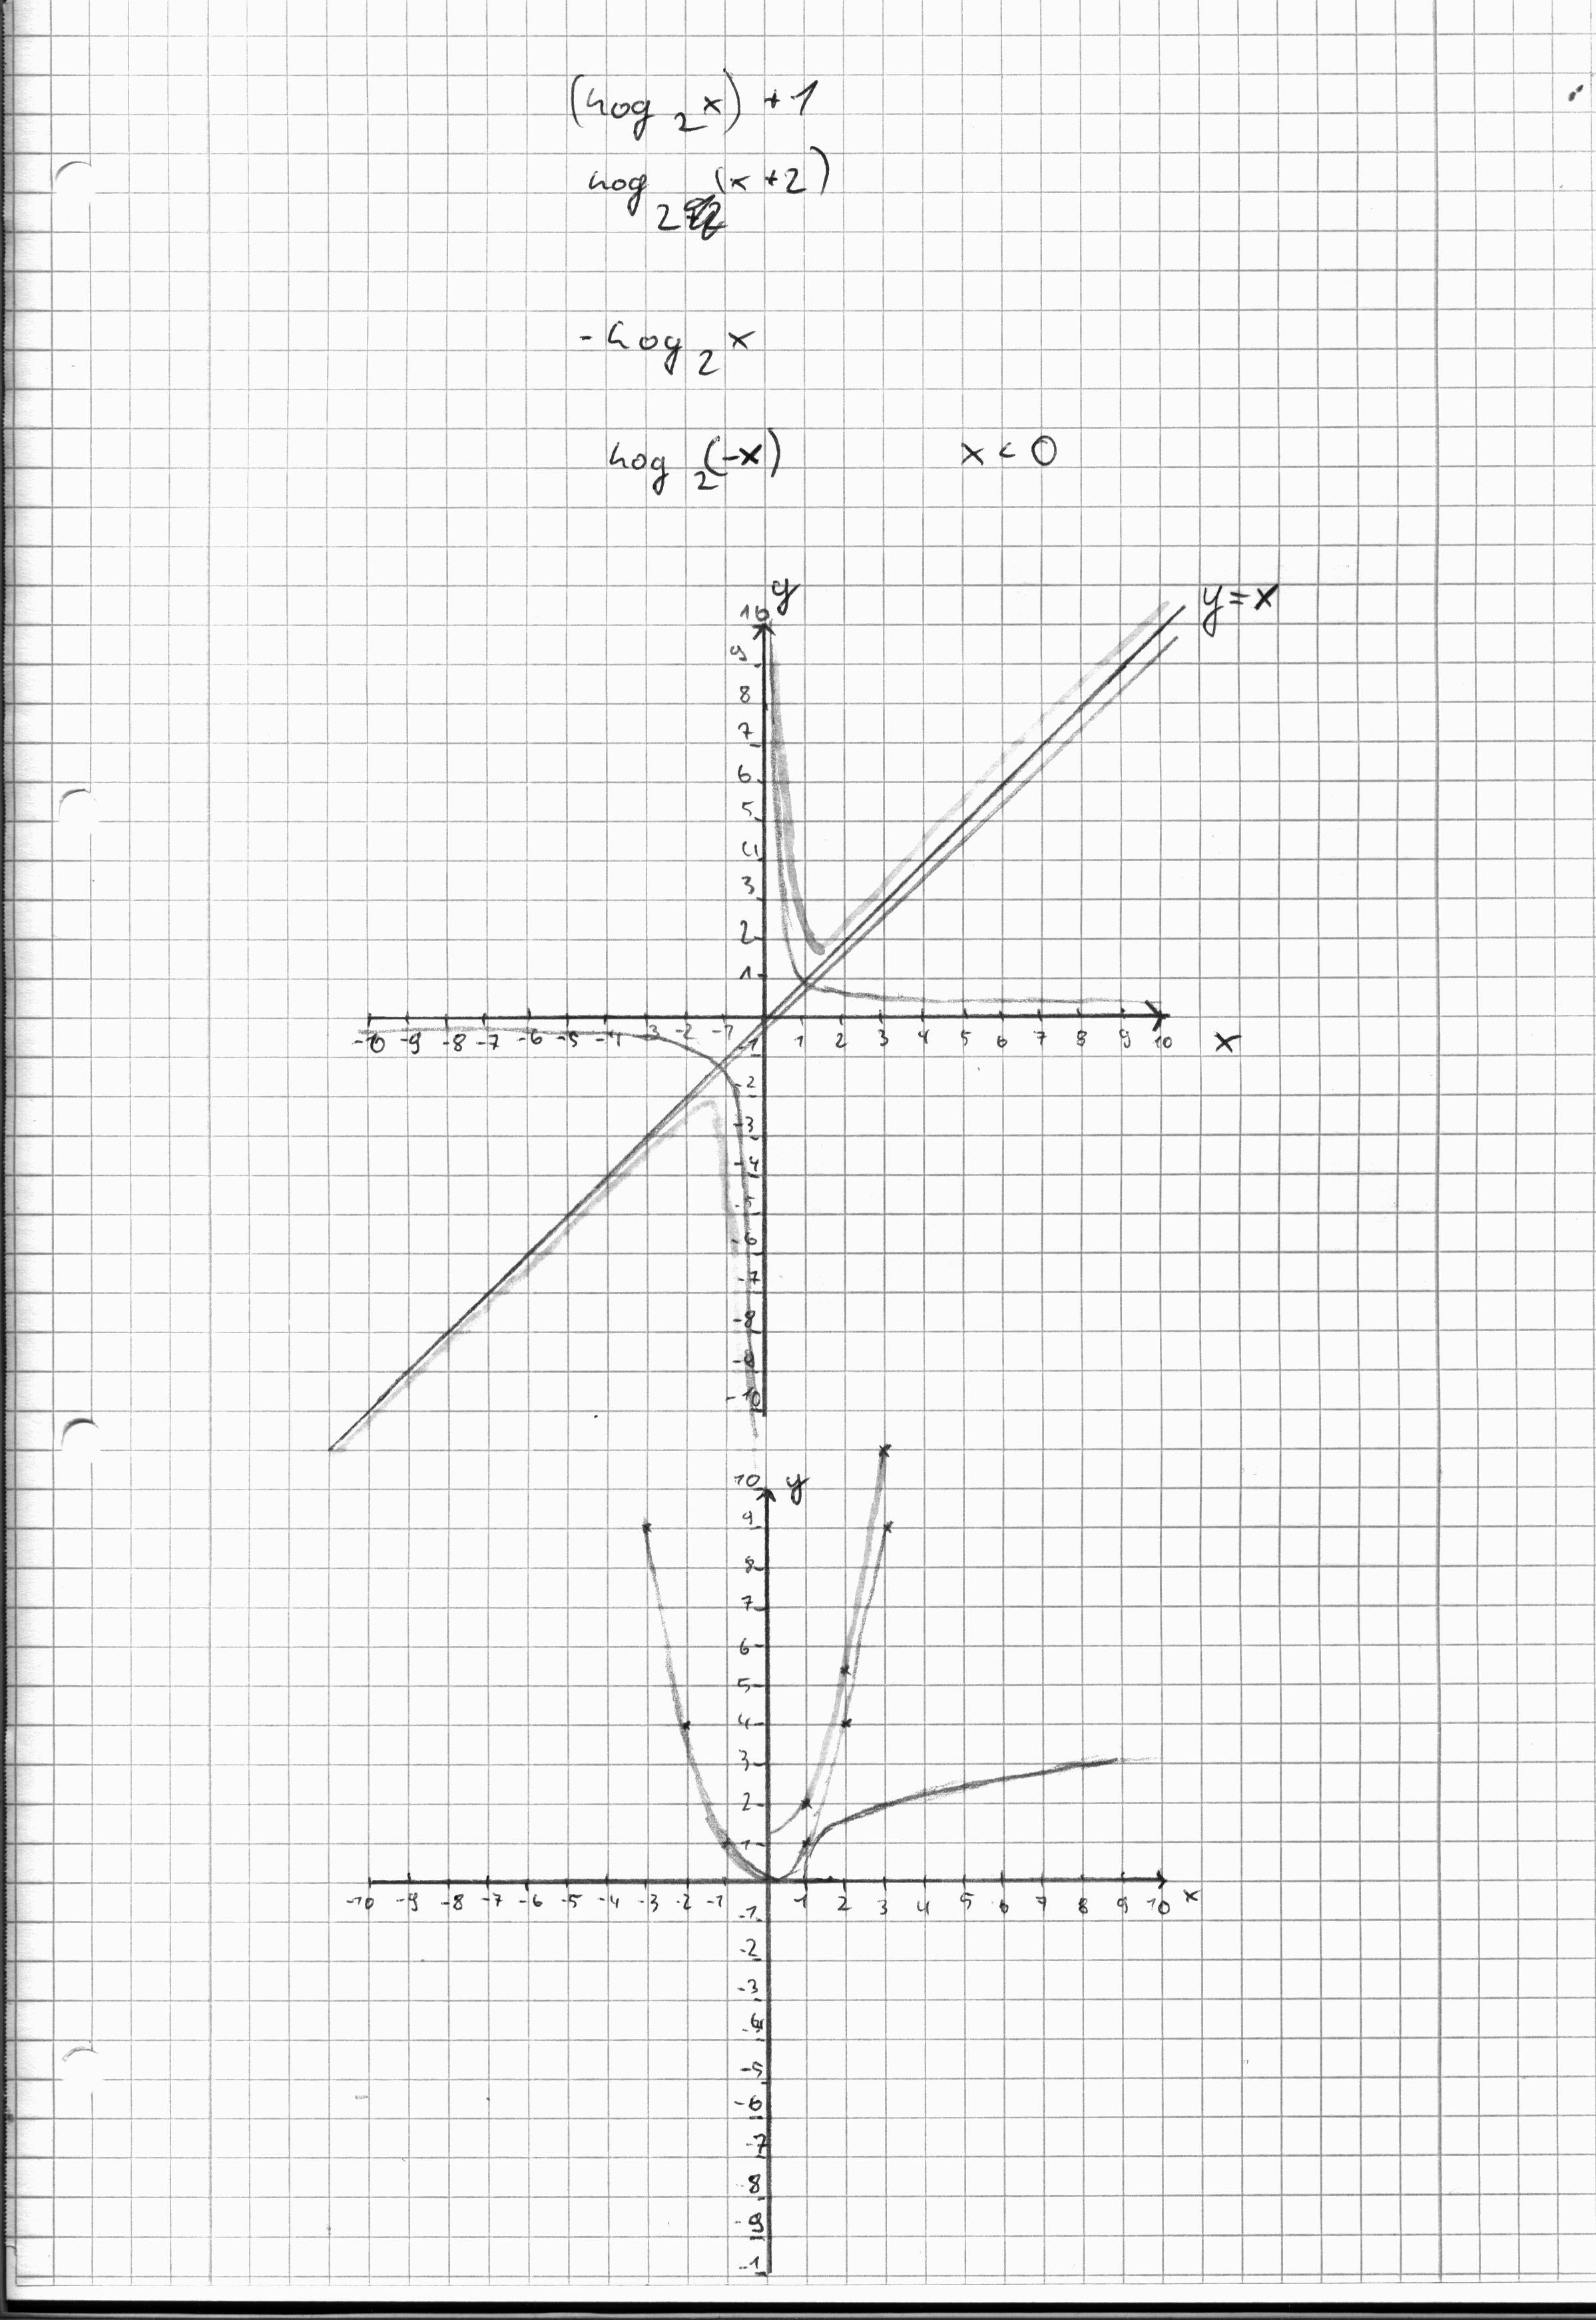word: (565, 63, 842, 254), (593, 409, 800, 513), (569, 305, 768, 389), (949, 413, 1075, 487)
